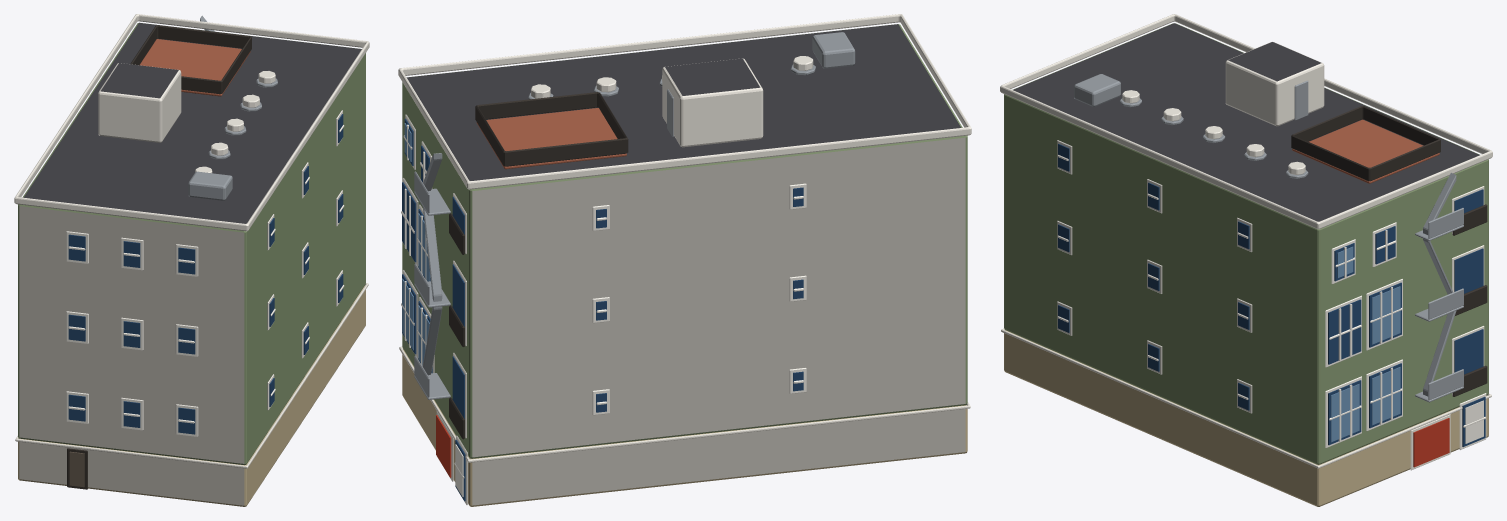
File: mid.glb
3 views of the same model, side by side, from view 1: azimuth 30°, elevation 25°; view 2: azimuth 150°, elevation 25°; view 3: azimuth 270°, elevation 25° (orthographic). The views are drawn at different scales.
Visible parts, largest first — view 1: body_upper, body_base, grp_Toy_trim, bulkhead, grp_Toy_glass, grp_Toy_white, grp_Toy_ink, roof_deck, grp_Toy_steel, reardoor_fill; view 2: body_upper, body_base, grp_Toy_trim, bulkhead, grp_Toy_steel, grp_Toy_ink, roof_deck, grp_Toy_glass, grp_Toy_white, grp_Toy_glass_Glow, garage_fill; view 3: body_upper, body_base, grp_Toy_trim, grp_Toy_glass, grp_Toy_white, grp_Toy_steel, bulkhead, grp_Toy_ink, grp_Toy_glass_Glow, roof_deck, garage_fill, entry_glow.
Part boxes in pixels (box(x1,y1,x2,y2)): body_upper: box(18, 22, 365, 465); body_base: box(18, 285, 365, 506); grp_Toy_trim: box(14, 14, 369, 468); bulkhead: box(98, 63, 181, 142); grp_Toy_glass: box(68, 114, 343, 434); grp_Toy_white: box(66, 110, 344, 436); grp_Toy_ink: box(67, 25, 251, 489); roof_deck: box(139, 39, 250, 96); grp_Toy_steel: box(188, 15, 277, 200); reardoor_fill: box(69, 451, 84, 487); body_upper: box(402, 24, 967, 458); body_base: box(402, 349, 967, 506); grp_Toy_trim: box(398, 14, 971, 481); bulkhead: box(662, 58, 763, 147); grp_Toy_steel: box(414, 32, 855, 399); grp_Toy_ink: box(449, 92, 628, 439); roof_deck: box(476, 108, 626, 169); grp_Toy_glass: box(402, 118, 803, 501); grp_Toy_white: box(401, 114, 806, 504); grp_Toy_glass_Glow: box(402, 123, 430, 365); garage_fill: box(436, 415, 451, 477); body_upper: box(1004, 23, 1488, 464); body_base: box(1004, 330, 1488, 506); grp_Toy_trim: box(1000, 14, 1492, 470); grp_Toy_glass: box(1058, 144, 1485, 446); grp_Toy_white: box(1057, 140, 1486, 449); grp_Toy_steel: box(1074, 74, 1463, 402); bulkhead: box(1225, 41, 1324, 126); grp_Toy_ink: box(1291, 106, 1487, 396); grp_Toy_glass_Glow: box(1331, 246, 1400, 442); roof_deck: box(1292, 119, 1439, 183); garage_fill: box(1413, 418, 1449, 467); entry_glow: box(1465, 400, 1483, 443).
Bounding box in the file's own units: 25.08 × 18.1 × 24.92.
